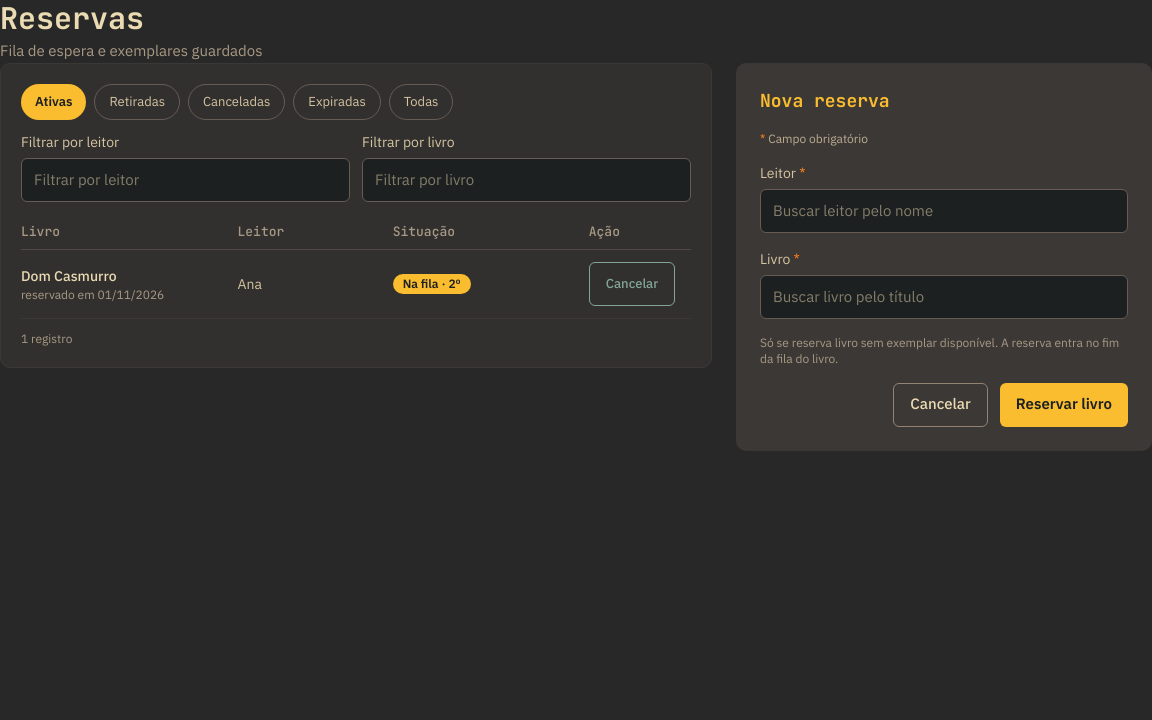
Test: reservas: cancelar › mostra a recusa da API
Click the button with aria-label "Cancelar reserva" at (632, 284), box [589,262,675,306]
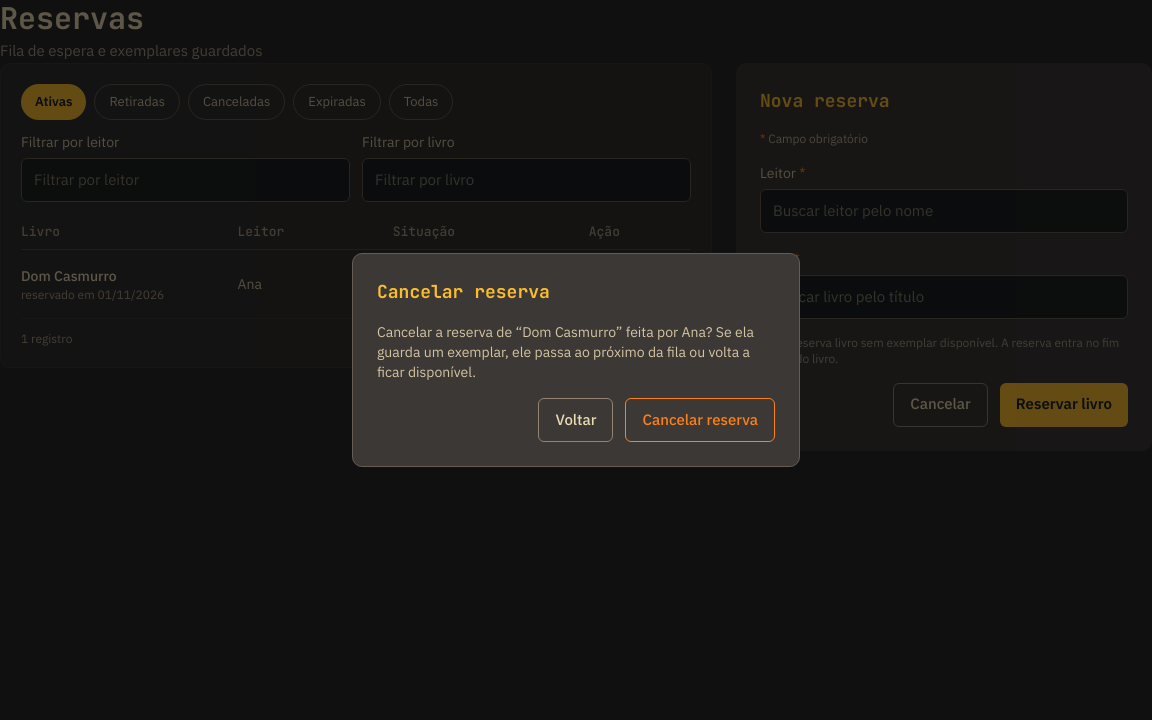
Click the button "Cancelar reserva" at (700, 420), box [626,398,775,442]
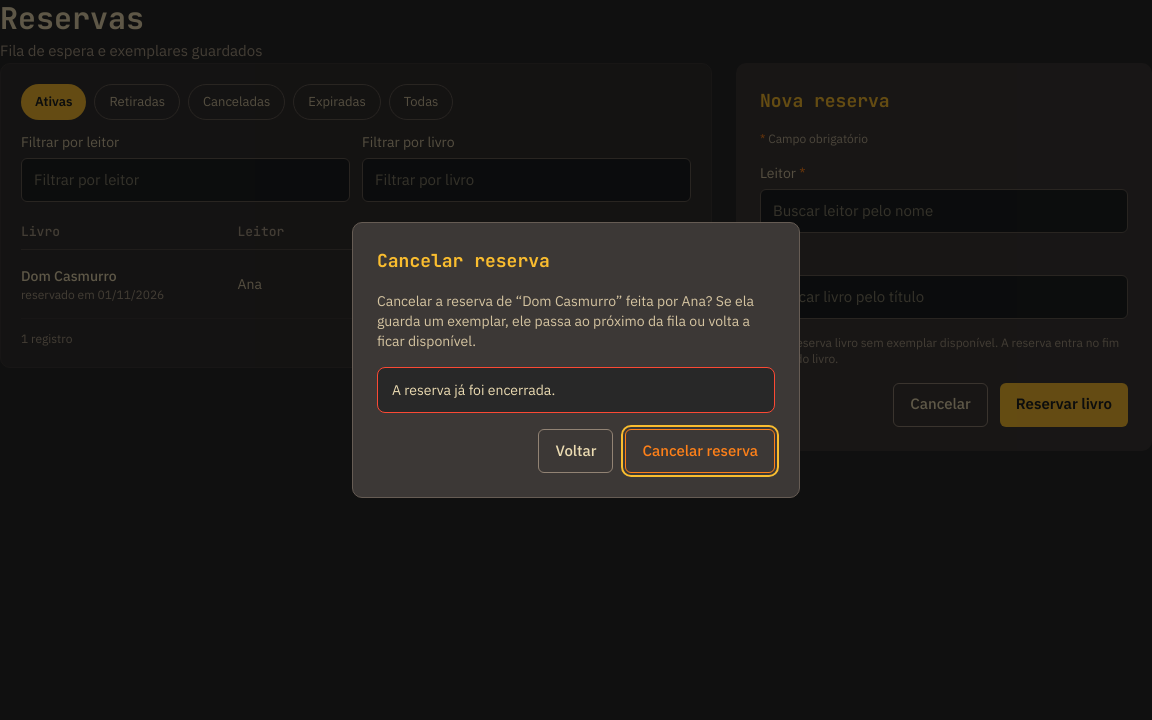
Check: the text "A reserva já foi encerrada." is shown, box [392,380,555,400]
